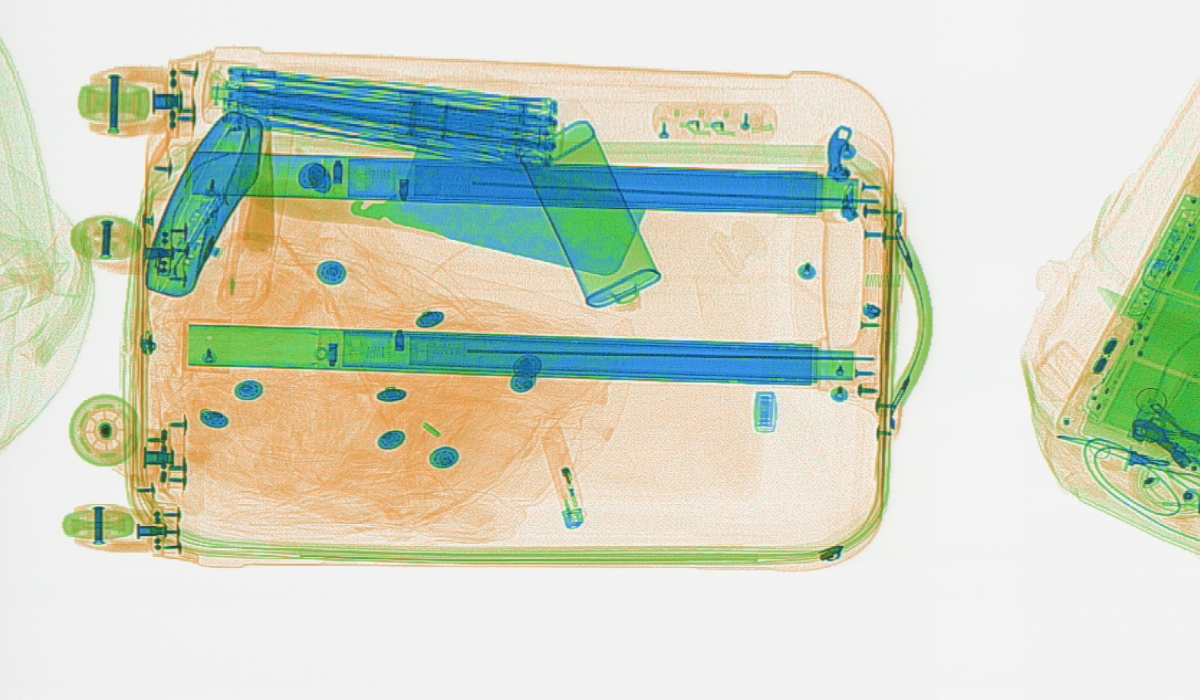knife: (240, 132, 649, 277)
lighter: (540, 418, 587, 530)
zippooil: (516, 118, 661, 312)
